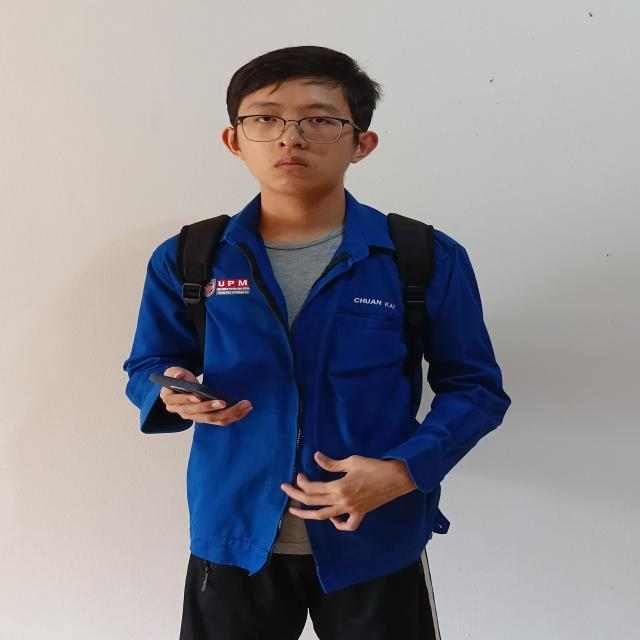person_with_labcoat: (125, 46, 510, 640)
